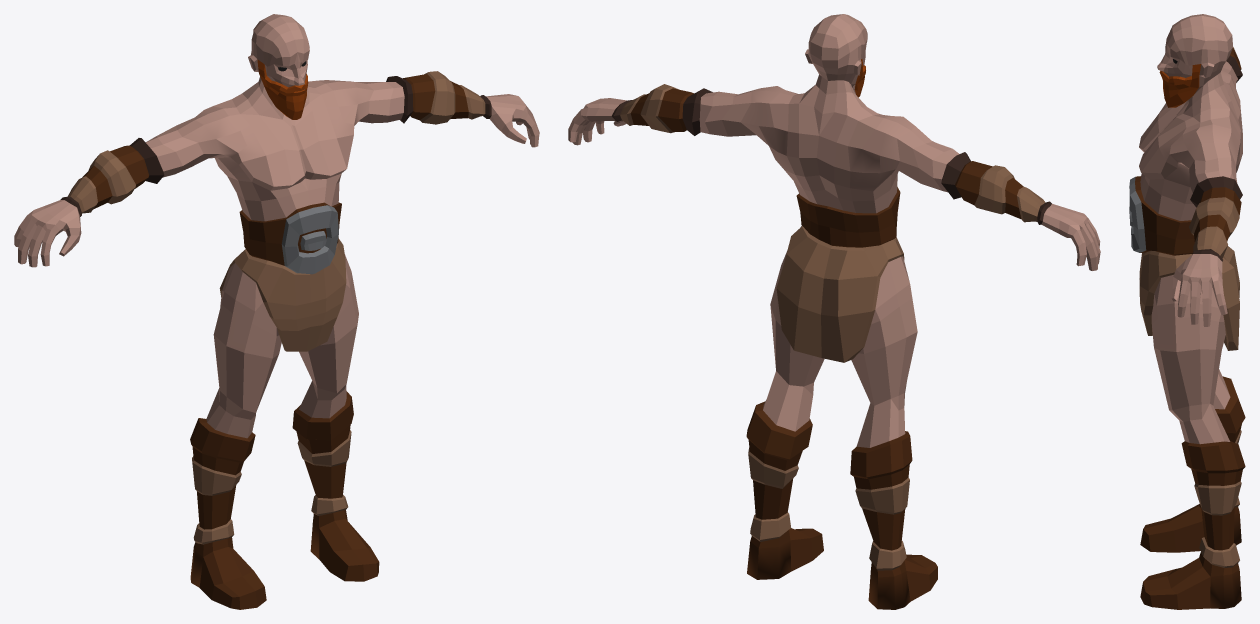
The model's file is Barbarian.fbx.
The picture shows the model from 3 angles, left to right: view 1: azimuth 30°, elevation 25°; view 2: azimuth 150°, elevation 25°; view 3: azimuth 270°, elevation 25°; orthographic projection.
Parts seen in each view (by area): view 1: Barbra the barbarian; view 2: Barbra the barbarian; view 3: Barbra the barbarian.
Boxes of the visible parts, x1=… form: Barbra the barbarian: x1=14, y1=14, x2=539, y2=609; Barbra the barbarian: x1=568, y1=14, x2=1100, y2=609; Barbra the barbarian: x1=1129, y1=14, x2=1245, y2=609.
Size of the model in its own units: 204 by 210 by 39.78.
